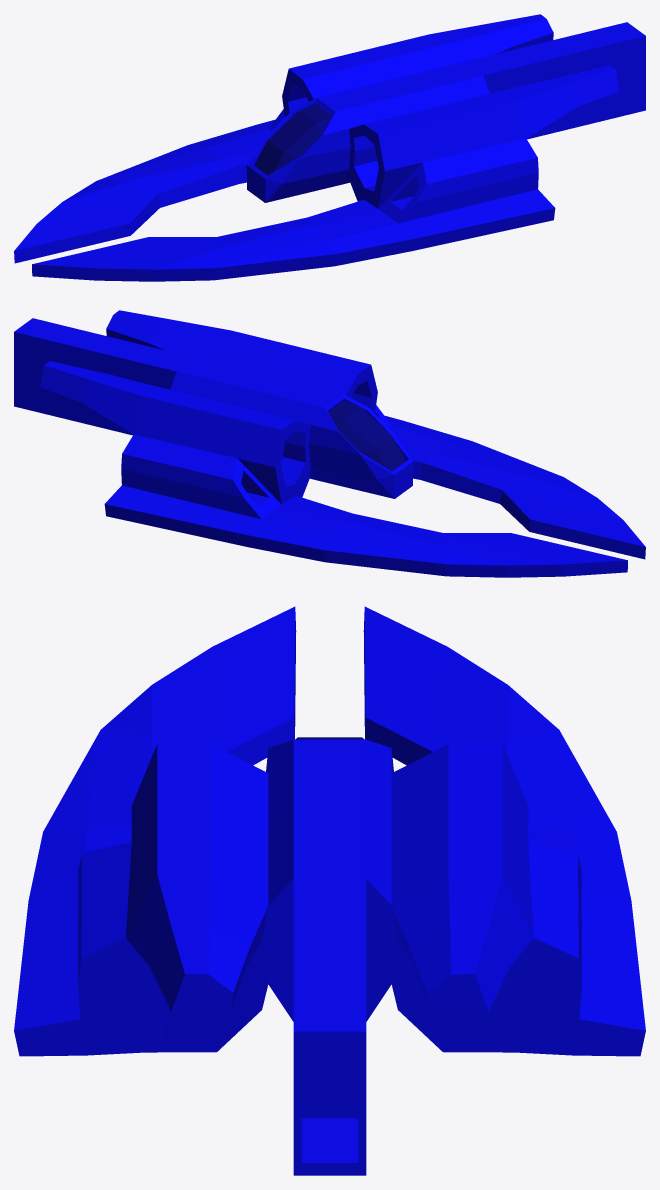
Rendered from tank_blue_3.glb.
3 renders of one model, top to bottom at view 1: azimuth 30°, elevation 25°; view 2: azimuth 150°, elevation 25°; view 3: azimuth 270°, elevation 25°, orthographic. The views are drawn at different scales.
Parts seen in each view (by area): view 1: Spaceship_Cube_primitive1, Spaceship_Cube_primitive0; view 2: Spaceship_Cube_primitive1, Spaceship_Cube_primitive0; view 3: Spaceship_Cube_primitive1.
Part boxes in pixels (x1,y1,x2,y2): Spaceship_Cube_primitive1: (14,14,645,281); Spaceship_Cube_primitive0: (254,105,331,175); Spaceship_Cube_primitive1: (14,310,645,577); Spaceship_Cube_primitive0: (328,401,405,471); Spaceship_Cube_primitive1: (14,606,645,1175).
Size of the model in its own units: 1 by 0.1465 by 0.4624.
